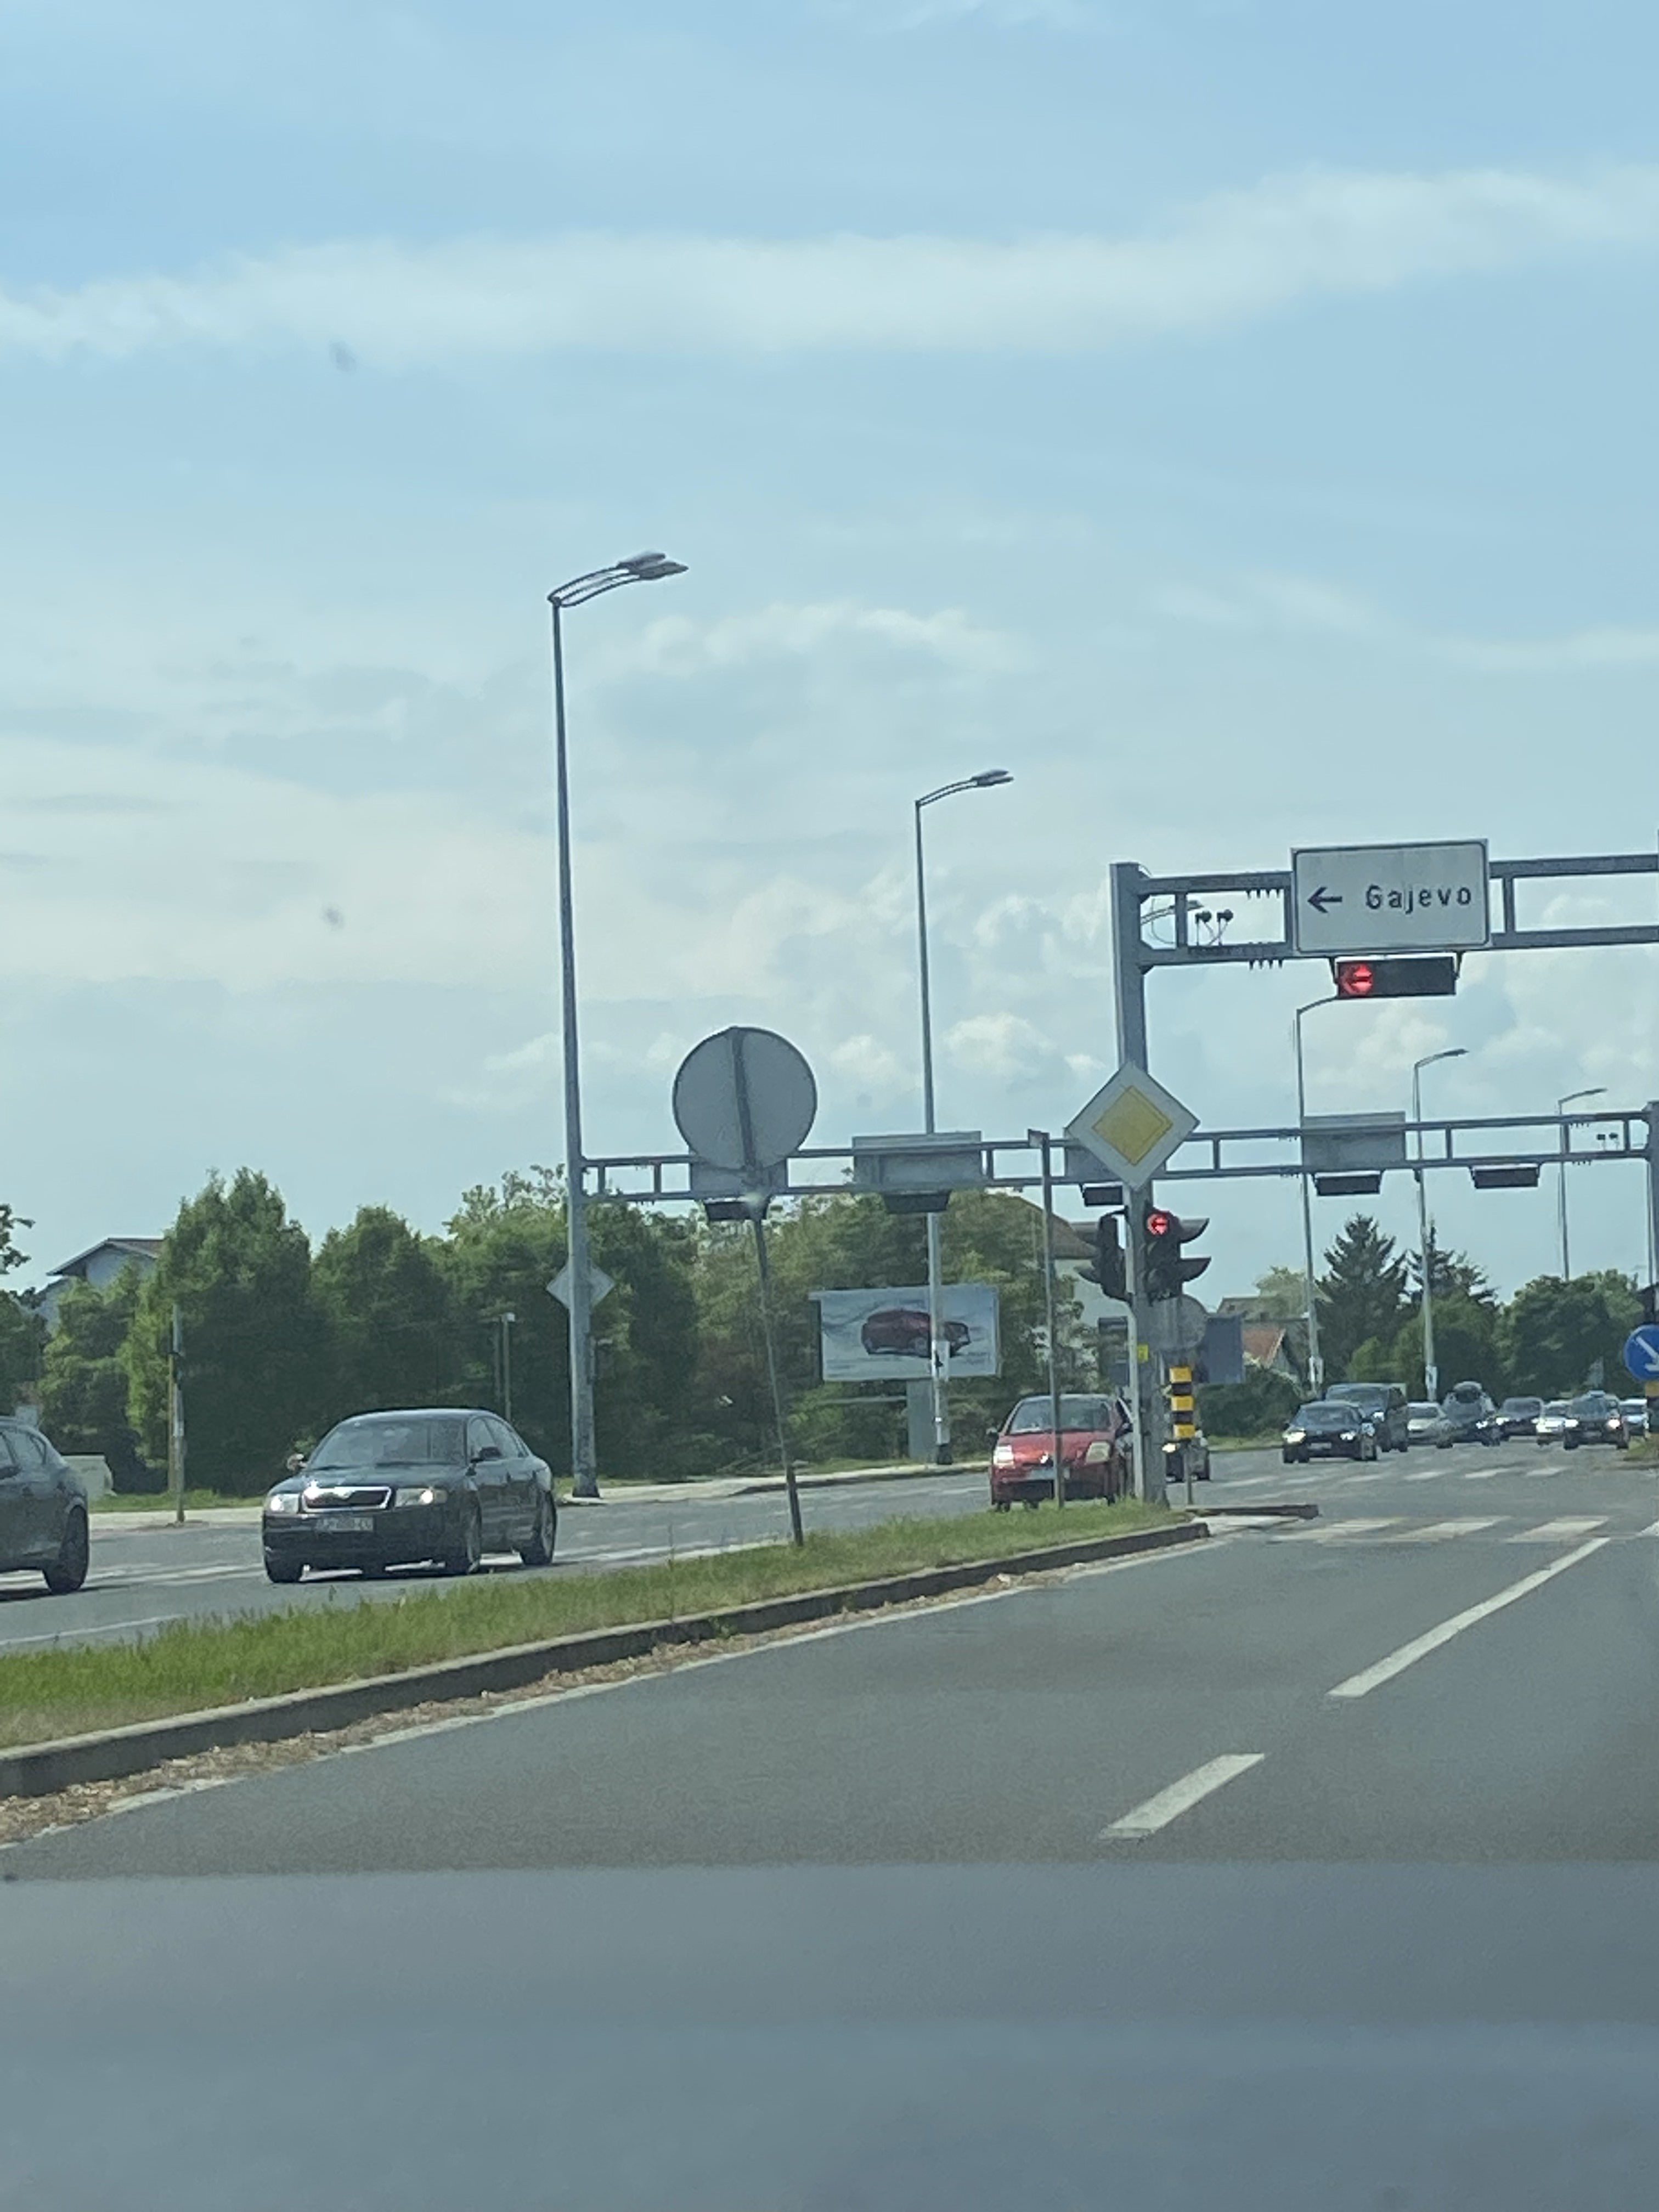Cesta s prednošću prolaska: (1061, 1059, 1204, 1197)
